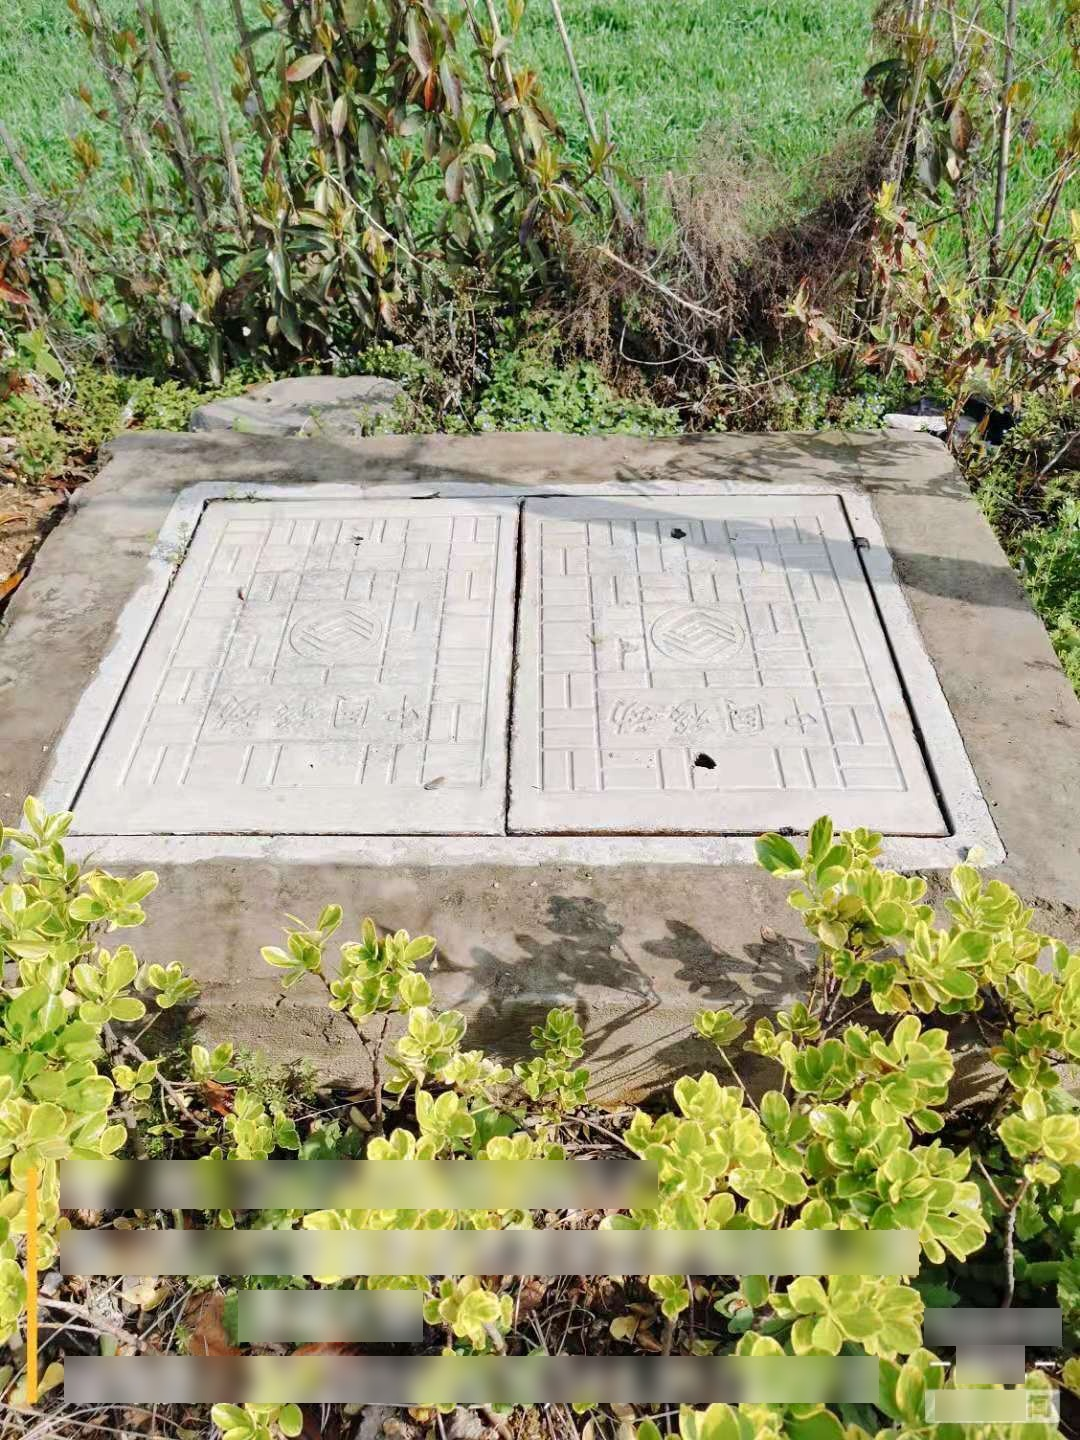good: (2, 482, 1007, 864)
